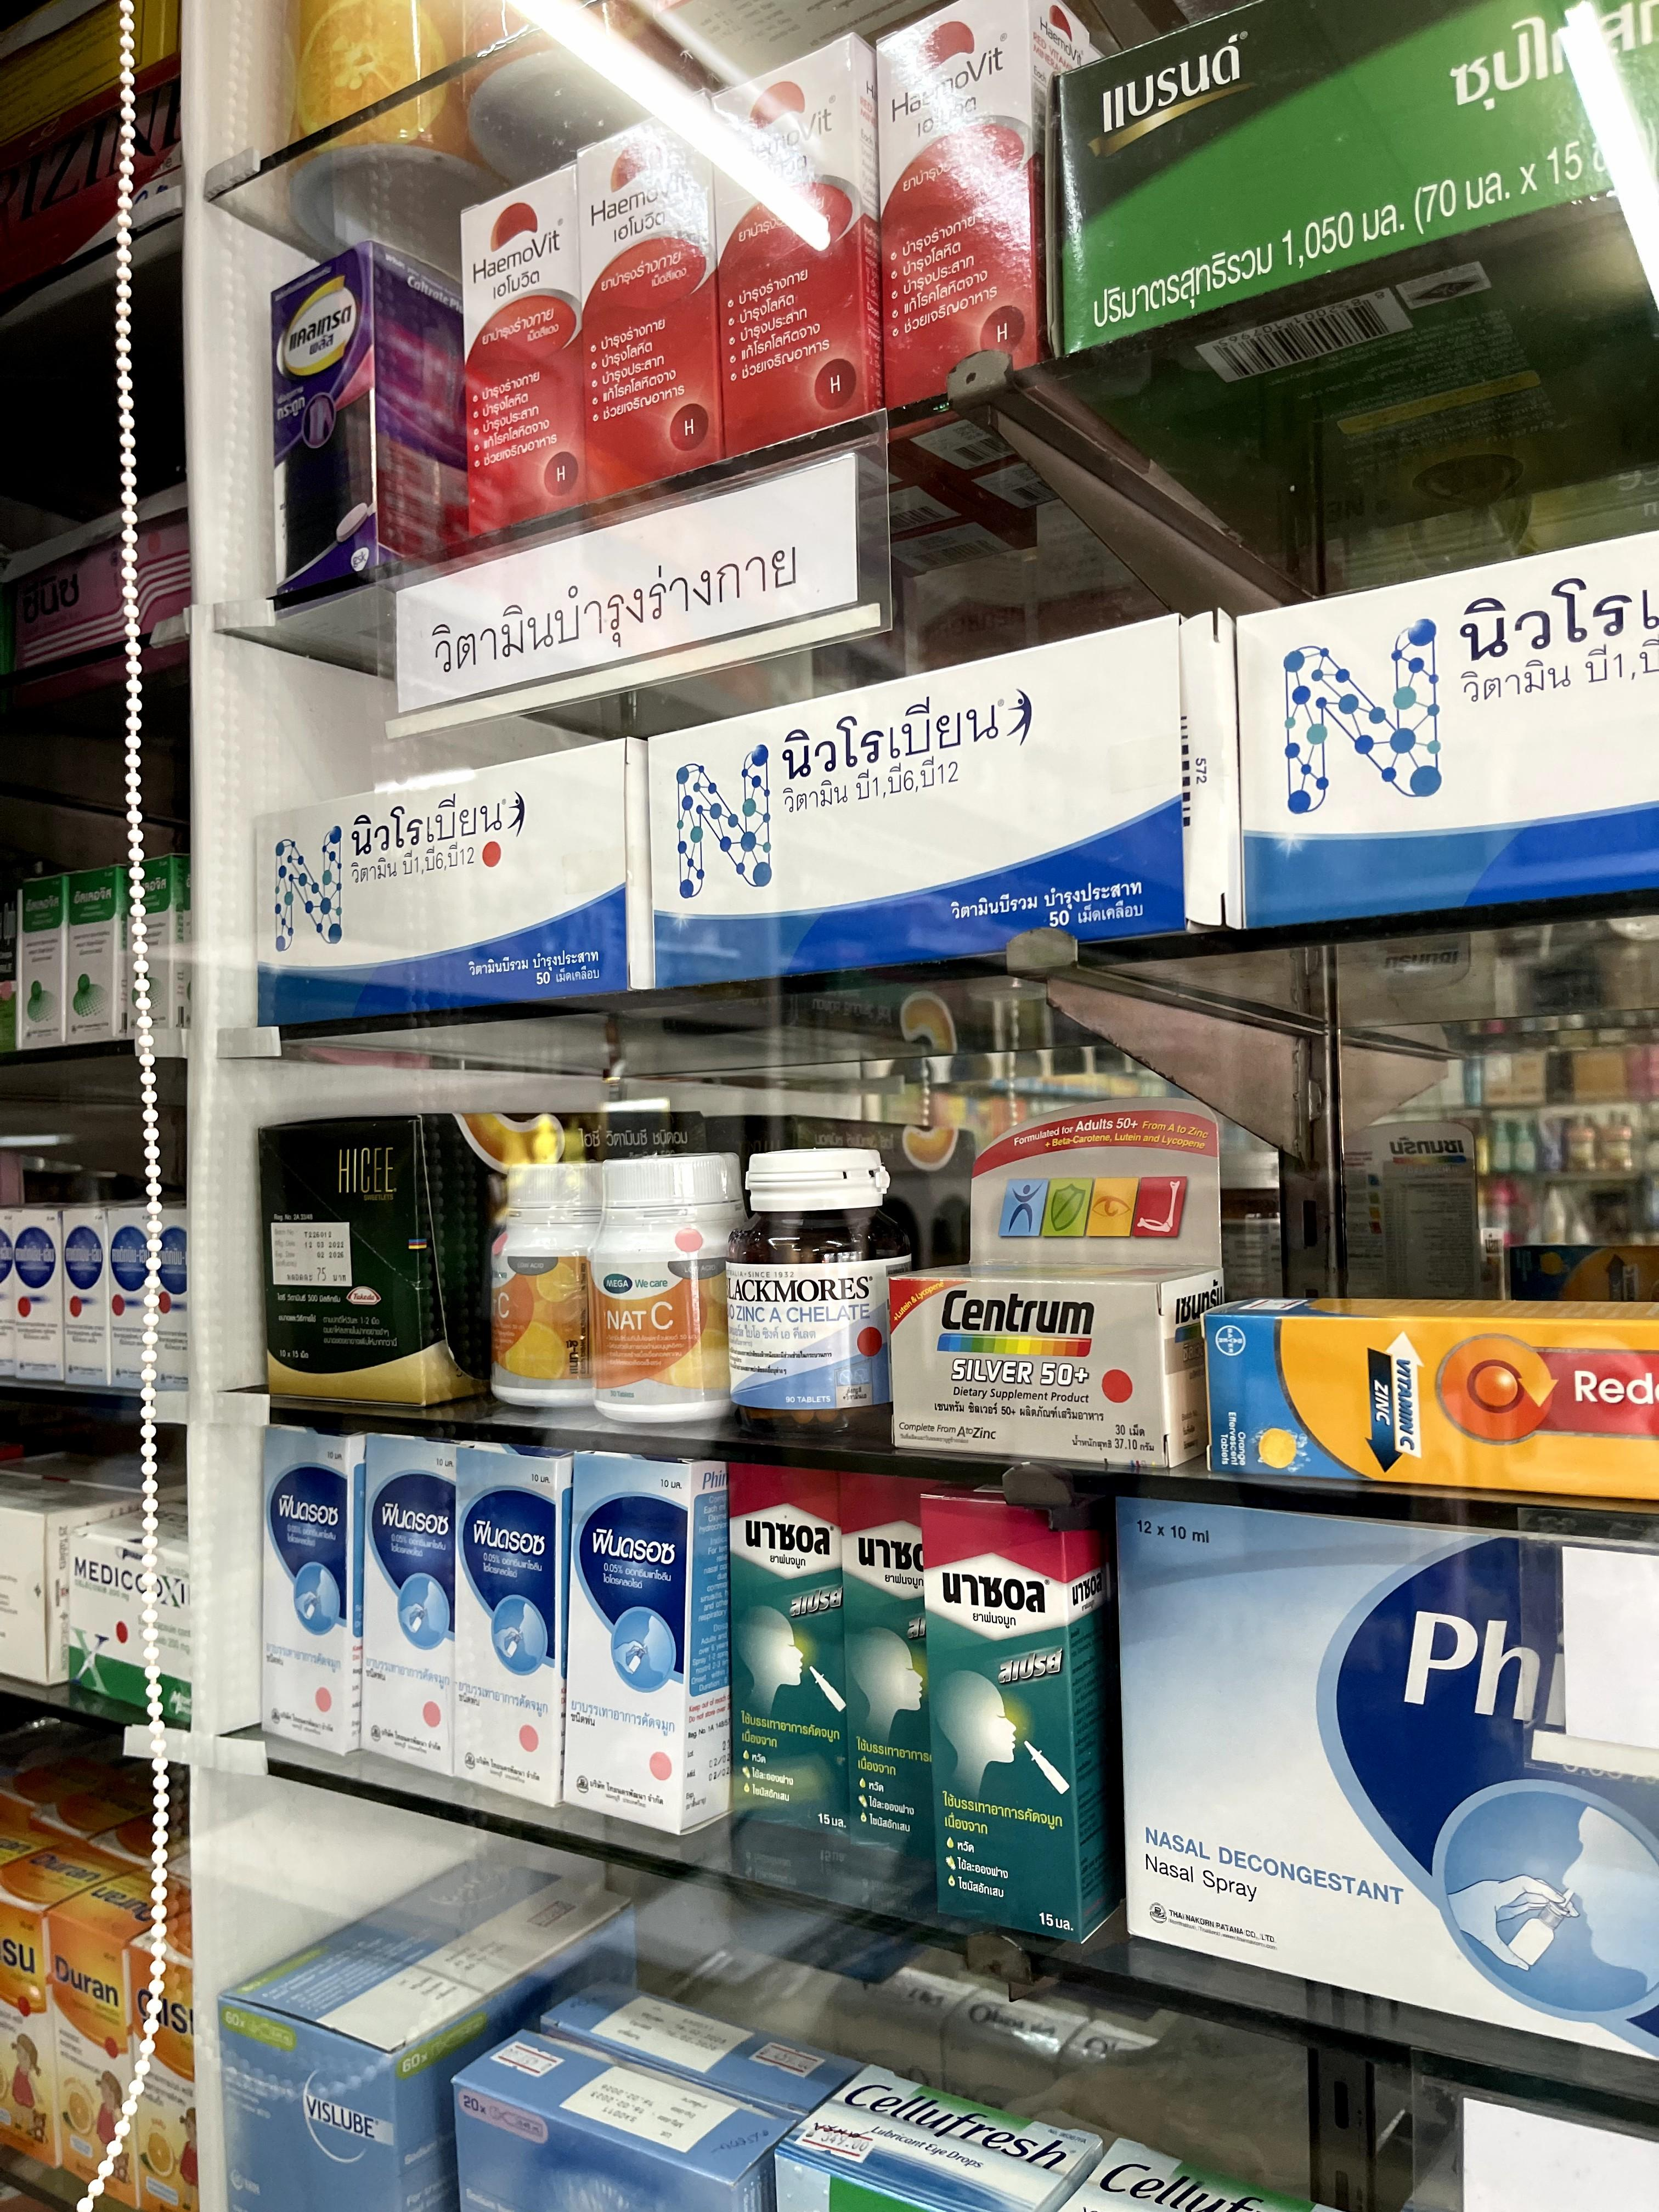Allergis: (131, 862, 195, 1038), (68, 869, 129, 1045), (17, 874, 68, 1050)
Heamovit: (706, 35, 885, 442), (582, 99, 721, 496), (460, 167, 587, 543)
NatC: (596, 1155, 746, 1416), (491, 1162, 608, 1411)
Vislube20: (457, 2027, 793, 2212), (551, 1973, 868, 2114)
Vislube60: (211, 1850, 645, 2212)
